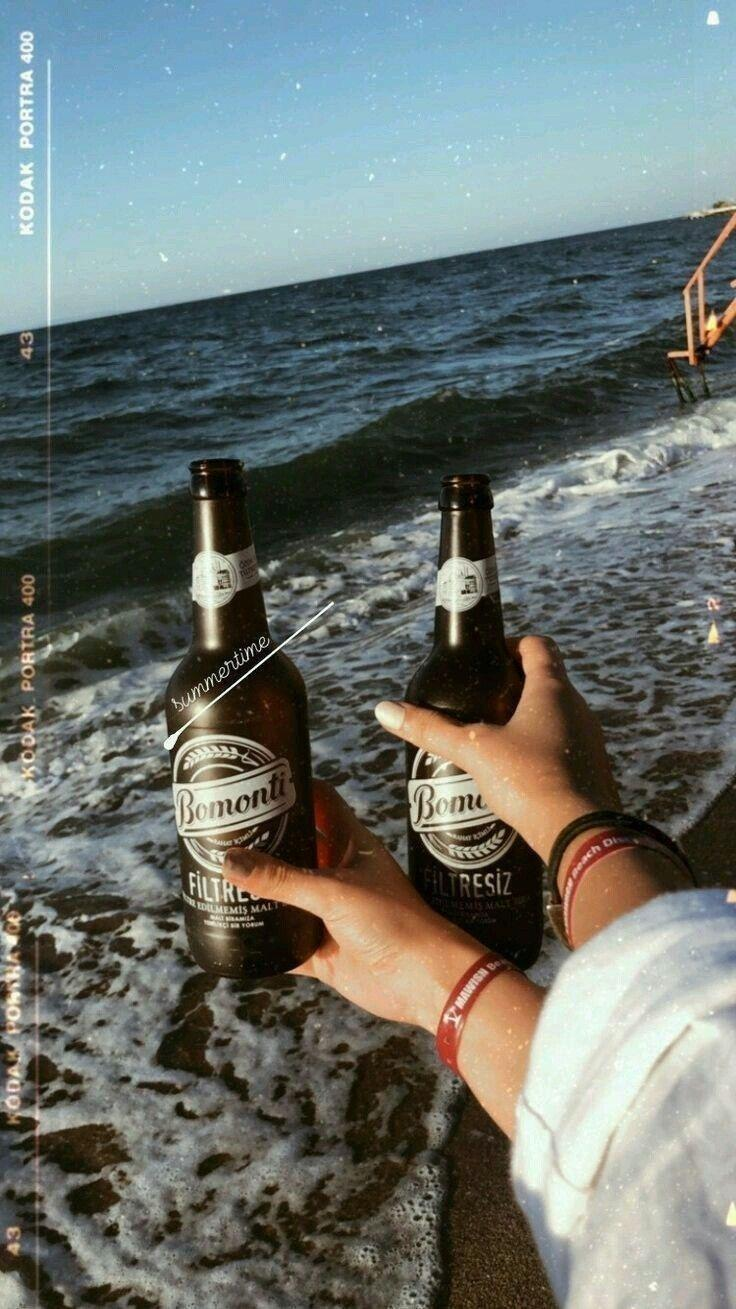bottle-glass: (162, 454, 326, 976), (396, 469, 552, 975)
